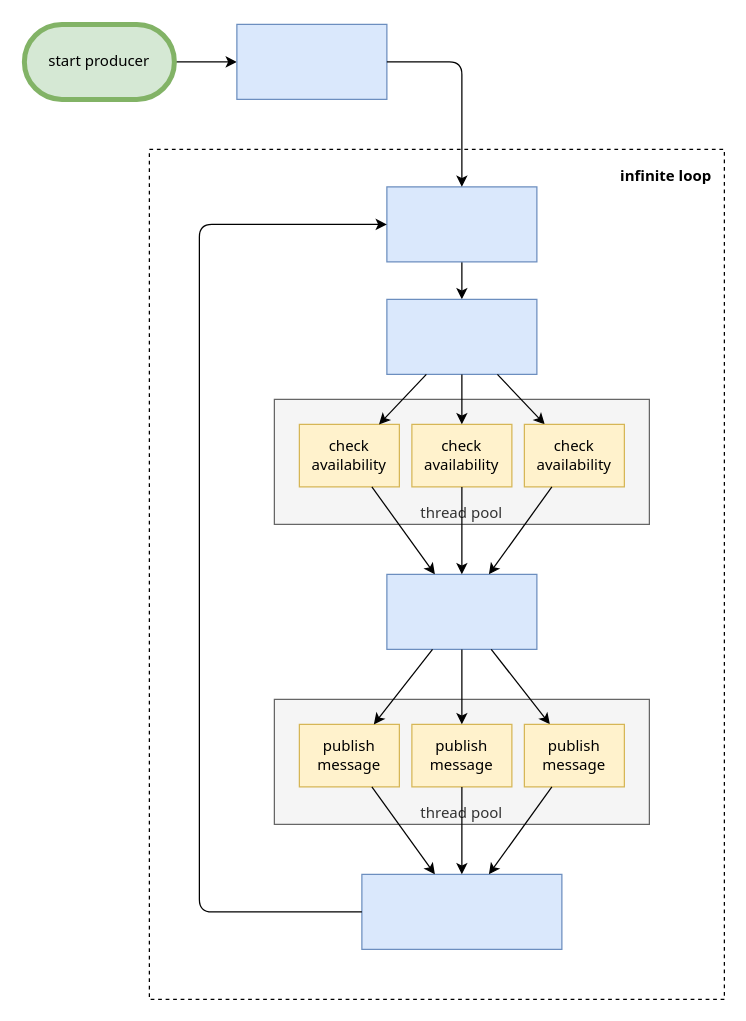
This 746x1021 diagram has some shape labels left out. Here are the shapes that lost their labels. From the top down, the centre of each, then its label:
point (311, 61): connect to kafka brokers
point (461, 224): read list of websites
point (461, 336): for each website
point (461, 611): wait for check results
point (461, 911): wait X seconds for next round of checks
